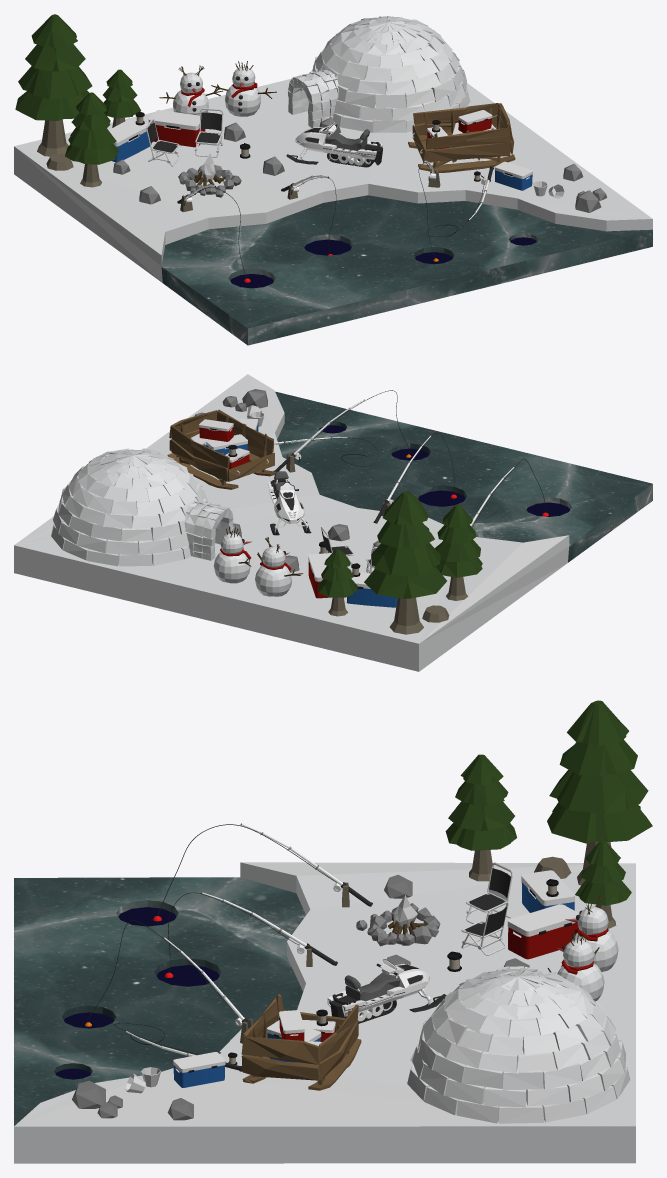
Rendered from igloo.obj.
3 renders of one model, top to bottom at view 1: azimuth 30°, elevation 25°; view 2: azimuth 150°, elevation 25°; view 3: azimuth 270°, elevation 25°, orthographic. The views are drawn at different scales.
Visible parts, largest first — view 1: plane_016, plane_015, Plane_000, tree_001, Plane_001, tree_003, Cube_000, Icosphere_000, snow_man_000, fish_box_000, tree_002, snow_man_001 (+6 smaller); view 2: plane_015, plane_016, Plane_000, tree_001, Plane_001, tree_003, tree_002, snow_man_001, Cube_000, snow_man_000, Icosphere_000, fish_box_1_000 (+5 smaller); view 3: plane_015, plane_016, Plane_000, tree_001, Plane_001, tree_003, Cube_000, fish_box_000, Icosphere_000, tree_002, snow_man_001, snow_man_000 (+9 smaller).
Part boxes in pixels (box(x1,y1,x2,y2)): plane_016: box(161, 195, 652, 345); plane_015: box(14, 79, 652, 282); Plane_000: box(288, 16, 470, 132); tree_001: box(15, 14, 92, 156); Plane_001: box(408, 103, 515, 172); tree_003: box(65, 92, 118, 187); Cube_000: box(286, 121, 382, 167); Icosphere_000: box(113, 117, 607, 212); snow_man_000: box(211, 61, 276, 116); fish_box_000: box(148, 110, 205, 147); tree_002: box(103, 69, 141, 127); snow_man_001: box(159, 65, 222, 115); plane_015: box(14, 374, 569, 671); plane_016: box(275, 391, 652, 562); Plane_000: box(51, 448, 233, 566); tree_001: box(364, 491, 446, 634); Plane_001: box(167, 409, 275, 489); tree_003: box(434, 505, 482, 600); tree_002: box(317, 549, 357, 616); snow_man_001: box(255, 537, 303, 596); Cube_000: box(268, 471, 311, 535); snow_man_000: box(213, 526, 251, 583); Icosphere_000: box(194, 389, 349, 572); fish_box_1_000: box(346, 572, 397, 607); plane_015: box(14, 862, 635, 1163); plane_016: box(14, 877, 305, 1125); Plane_000: box(407, 966, 629, 1123); tree_001: box(547, 700, 652, 885); Plane_001: box(241, 994, 361, 1090); tree_003: box(445, 754, 516, 881); Cube_000: box(327, 959, 446, 1023); fish_box_000: box(507, 904, 579, 959); Icosphere_000: box(72, 874, 529, 1120); tree_002: box(575, 840, 631, 928); snow_man_001: box(565, 894, 618, 971); snow_man_000: box(547, 931, 604, 1001).
Bounding box in the file's own units: 321 × 120 × 324.
2 materials, 1 textured.
